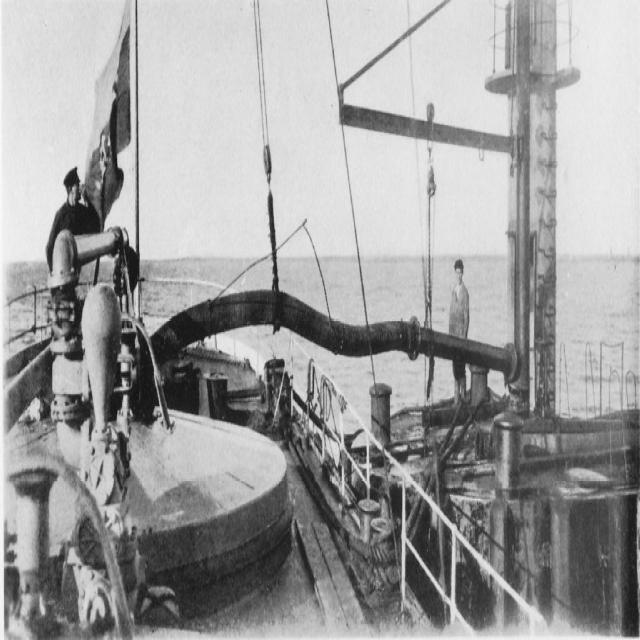Boat: (0, 56, 597, 581)
